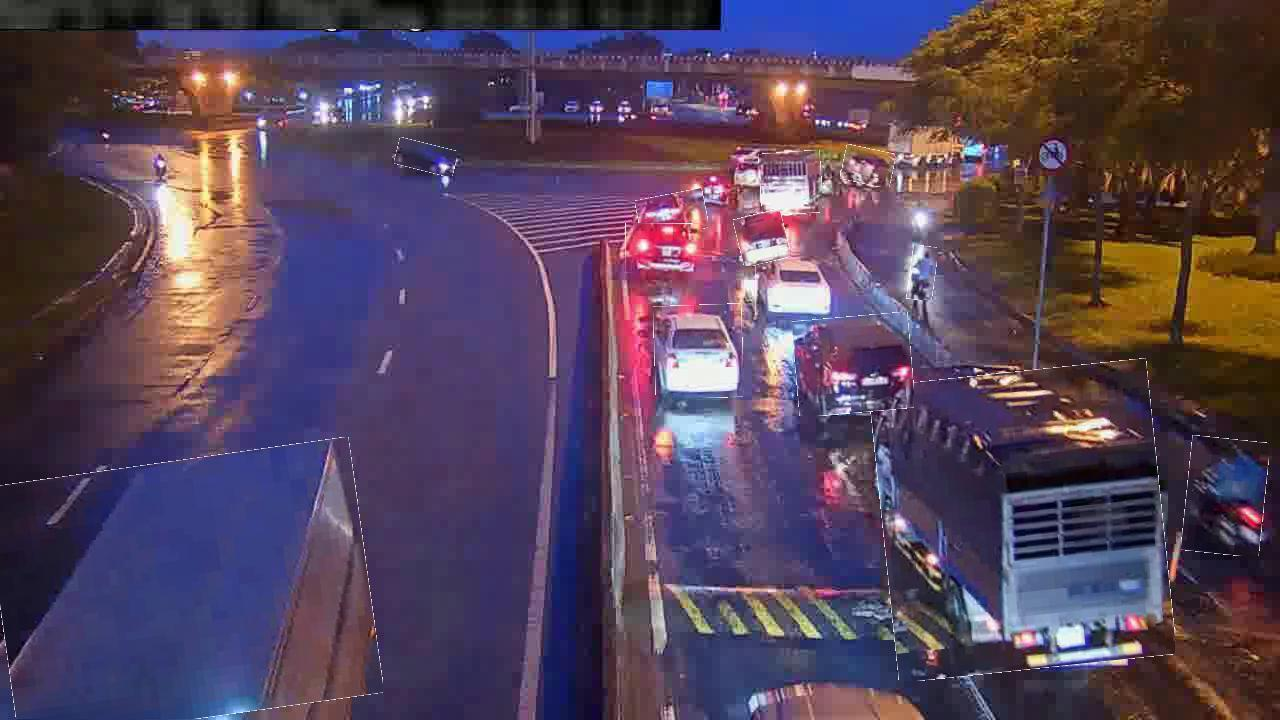8: (0, 449, 377, 719), (876, 365, 1169, 676), (759, 151, 822, 215)
container: (794, 315, 914, 415), (654, 304, 744, 399), (755, 258, 832, 316), (625, 224, 704, 274), (636, 191, 708, 237), (736, 211, 789, 265), (842, 147, 895, 186), (395, 141, 457, 174)
motorbike: (1184, 437, 1268, 556), (908, 246, 937, 301)
